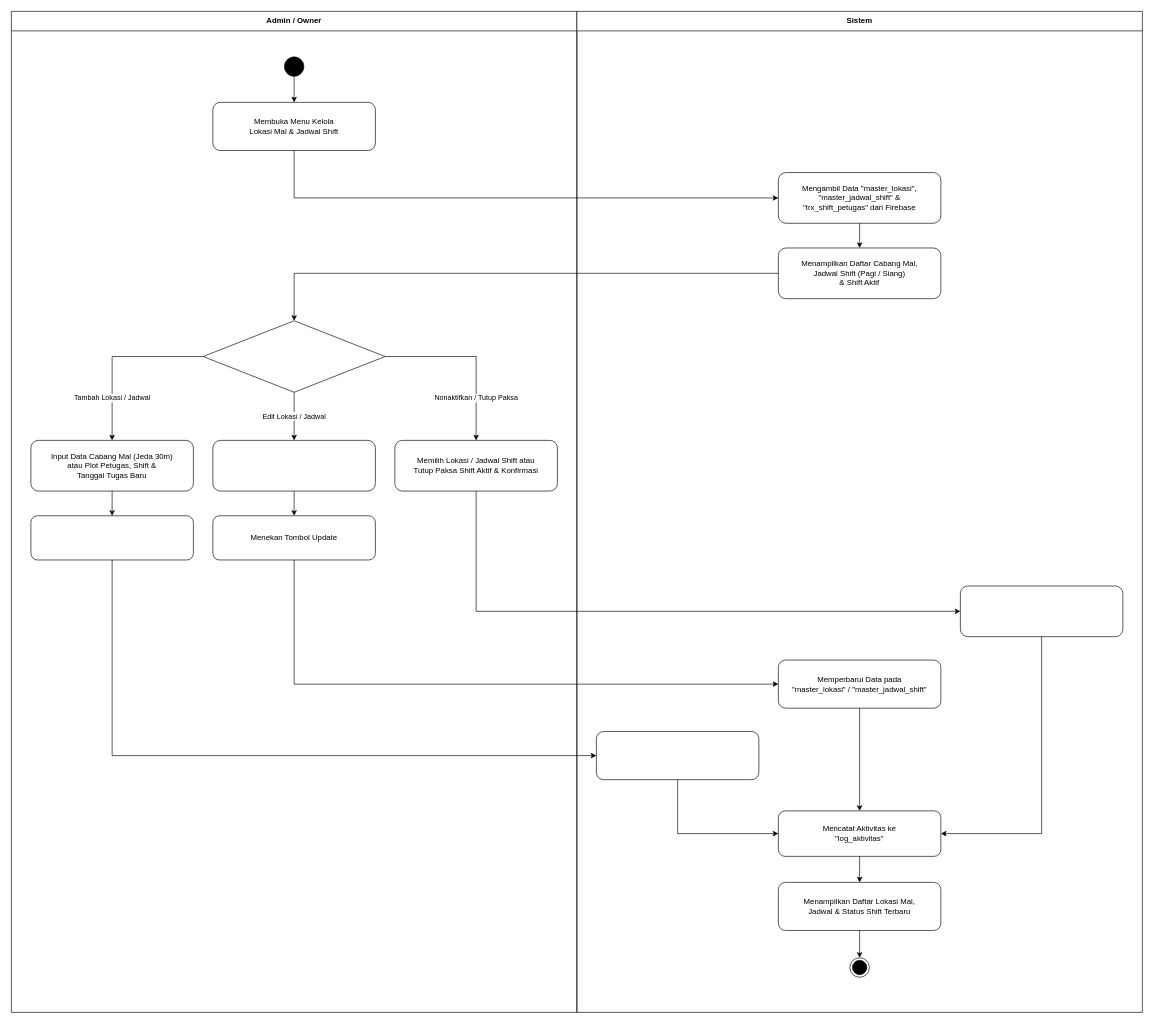
The diagram is 1154 pixels wide and 1024 high, and some of its shapes have lost their labels. Here are the shapes that lost their labels. From the top down, the box of each, then its label:
(202, 320, 385, 392): Pilih Aksi?
(212, 440, 375, 491): Mengubah Alamat/Jeda Mal atau Jam & Petugas Jadwal Shift
(30, 515, 193, 560): Menekan Tombol Simpan
(960, 585, 1123, 637): Menonaktifkan Data ("status_aktif = false") atau Tutup Paksa "trx_shift_petugas"
(596, 731, 759, 780): Menyimpan Data Baru ke "master_lokasi" / "master_jadwal_shift"
